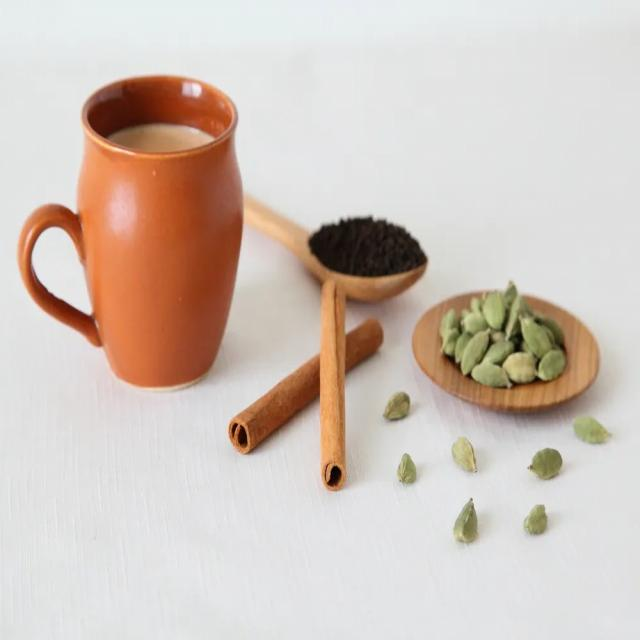Chai: (101, 114, 217, 155)
